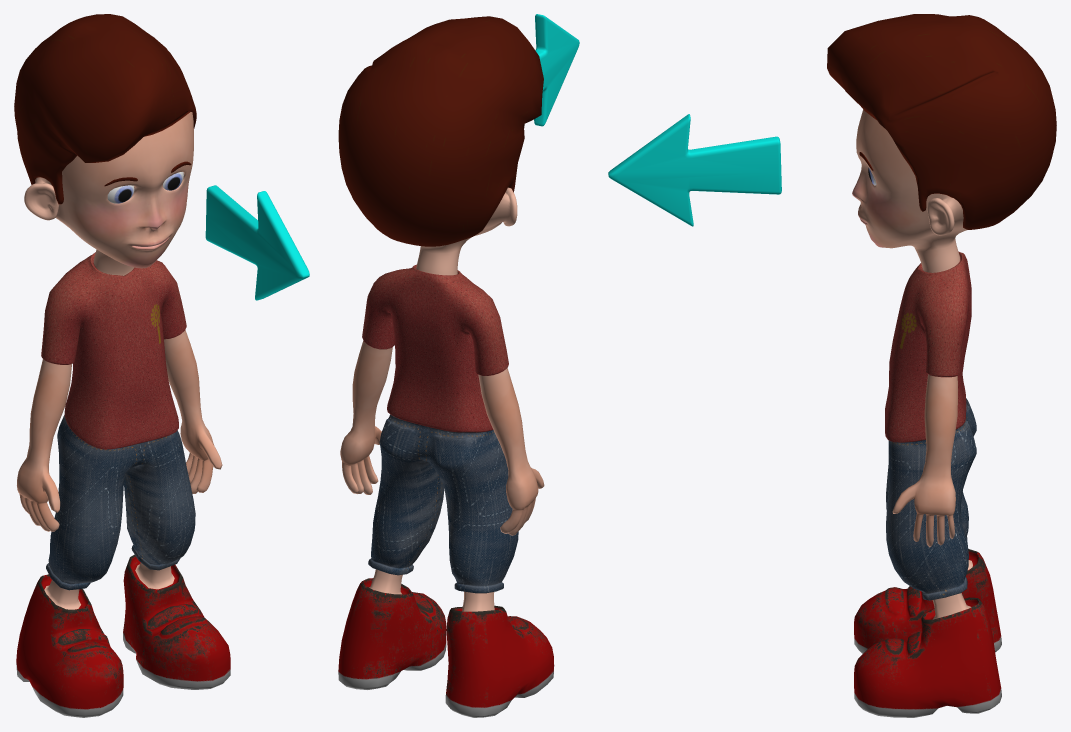
File: I_See.fbx
3 renders of one model, left to right at view 1: azimuth 30°, elevation 25°; view 2: azimuth 150°, elevation 25°; view 3: azimuth 270°, elevation 25°, orthographic.
Visible parts, largest first — view 1: character01, Arrow; view 2: character01, Arrow; view 3: character01, Arrow.
Boxes of the visible parts, x1,y1,x2,y2 form: character01: (14,14,230,717); Arrow: (205,185,309,300); character01: (338,16,554,717); Arrow: (534,14,579,126); character01: (827,14,1056,717); Arrow: (608,114,781,226).
Bounding box in the file's own units: 99.17 × 329 × 205.
Materials: 2 (1 with a texture image).
